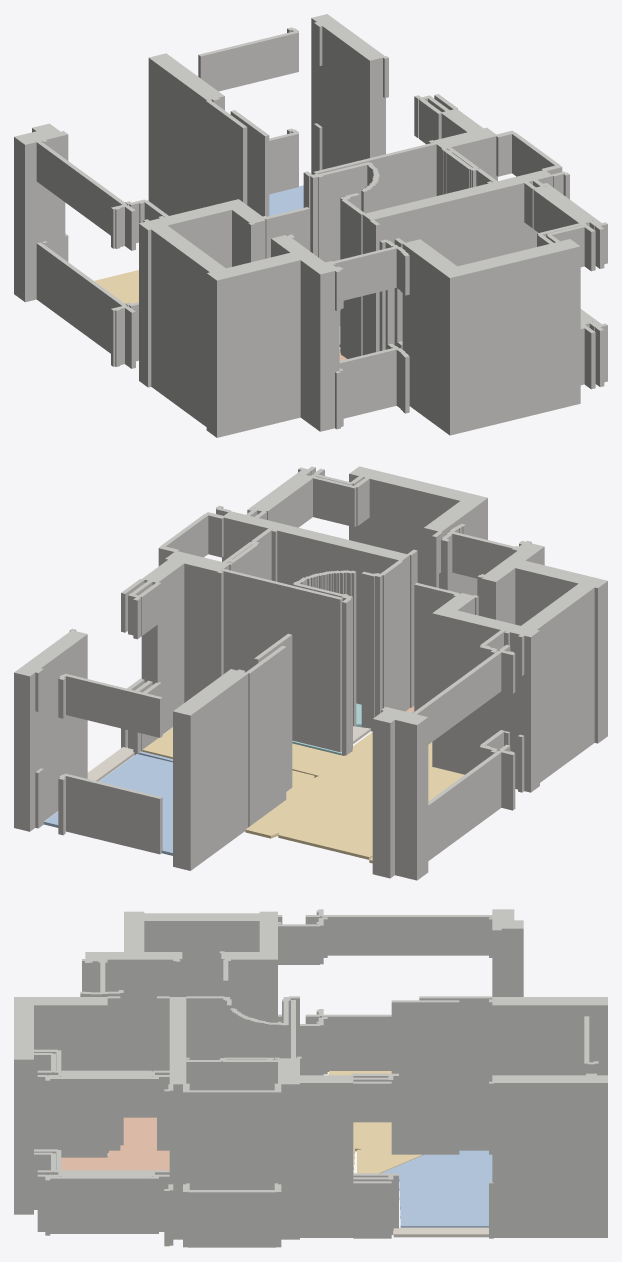
The picture shows the model from 3 angles, top to bottom: view 1: azimuth 30°, elevation 25°; view 2: azimuth 150°, elevation 25°; view 3: azimuth 270°, elevation 25°; orthographic projection.
Visible parts, largest first — view 1: walls, room:living:3, room:bedroom:4; view 2: walls, room:living:3, room:bedroom:4, room:other:6; view 3: walls, room:bedroom:4, room:kitchen:5, room:living:3, room:other:6.
Part boxes in pixels (left/top/right/bottom): walls: left=14, top=14, right=607, bottom=437; room:living:3: left=94, top=270, right=340, bottom=354; room:bedroom:4: left=269, top=185, right=303, bottom=215; walls: left=14, top=466, right=607, bottom=880; room:living:3: left=142, top=727, right=464, bottom=863; room:bedroom:4: left=44, top=751, right=172, bottom=855; room:other:6: left=87, top=747, right=134, bottom=781; walls: left=14, top=909, right=607, bottom=1247; room:bedroom:4: left=381, top=1150, right=492, bottom=1227; room:kitchen:5: left=61, top=1117, right=169, bottom=1170; room:living:3: left=328, top=1071, right=422, bottom=1173; room:other:6: left=393, top=1227, right=488, bottom=1237.
Size of the model in its own units: 7.09 by 2.8 by 9.72.
